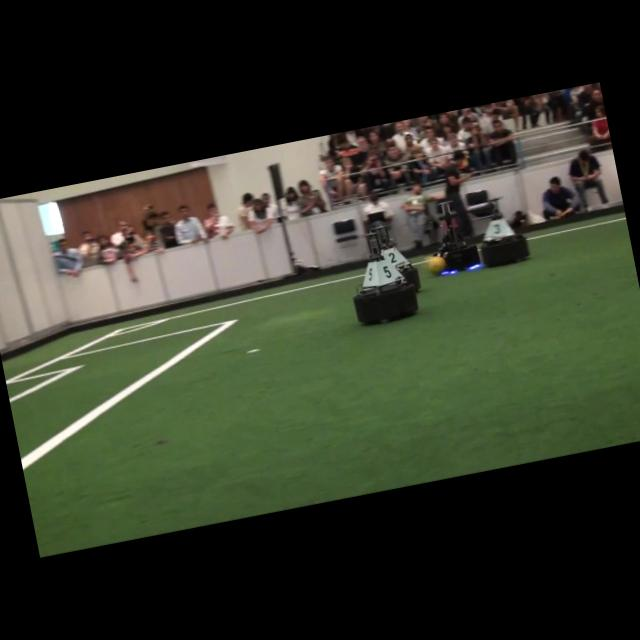ball: (427, 255, 447, 274)
robot: (353, 232, 418, 325), (372, 225, 422, 291), (481, 203, 529, 268), (437, 201, 480, 271)
